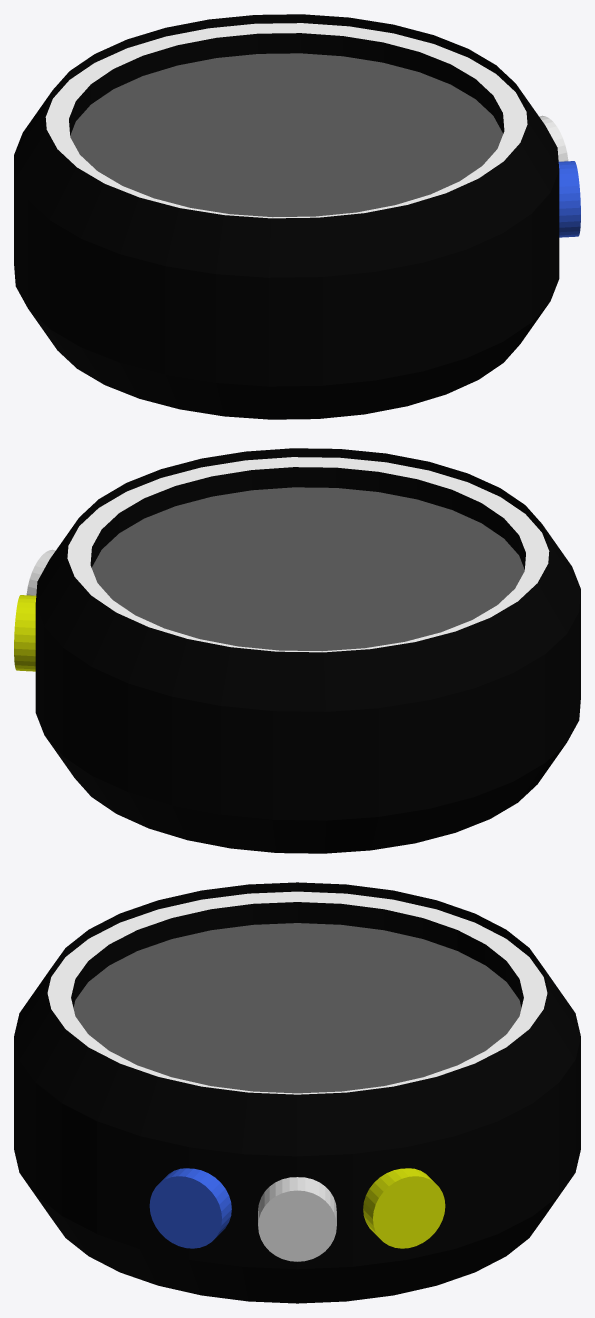
File: Artifact.fbx
3 renders of one model, top to bottom at view 1: azimuth 30°, elevation 25°; view 2: azimuth 150°, elevation 25°; view 3: azimuth 270°, elevation 25°, orthographic. The views are drawn at different scales.
Parts seen in each view (by area): view 1: 円柱.001; view 2: 円柱.001; view 3: 円柱.001.
Boxes of the visible parts, left/top/right/bottom form: 円柱.001: left=14, top=14, right=580, bottom=419; 円柱.001: left=14, top=448, right=580, bottom=853; 円柱.001: left=14, top=882, right=580, bottom=1303.
Size of the model in its own units: 211 by 81.3 by 200.
